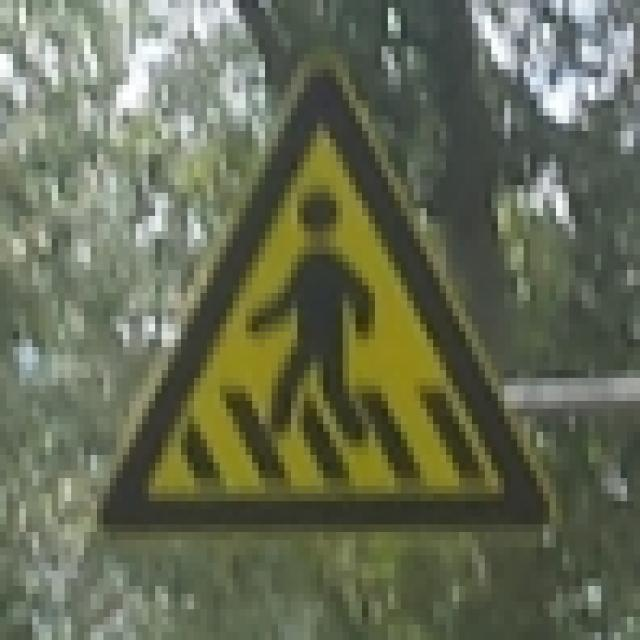Crossing: (102, 51, 556, 531)
